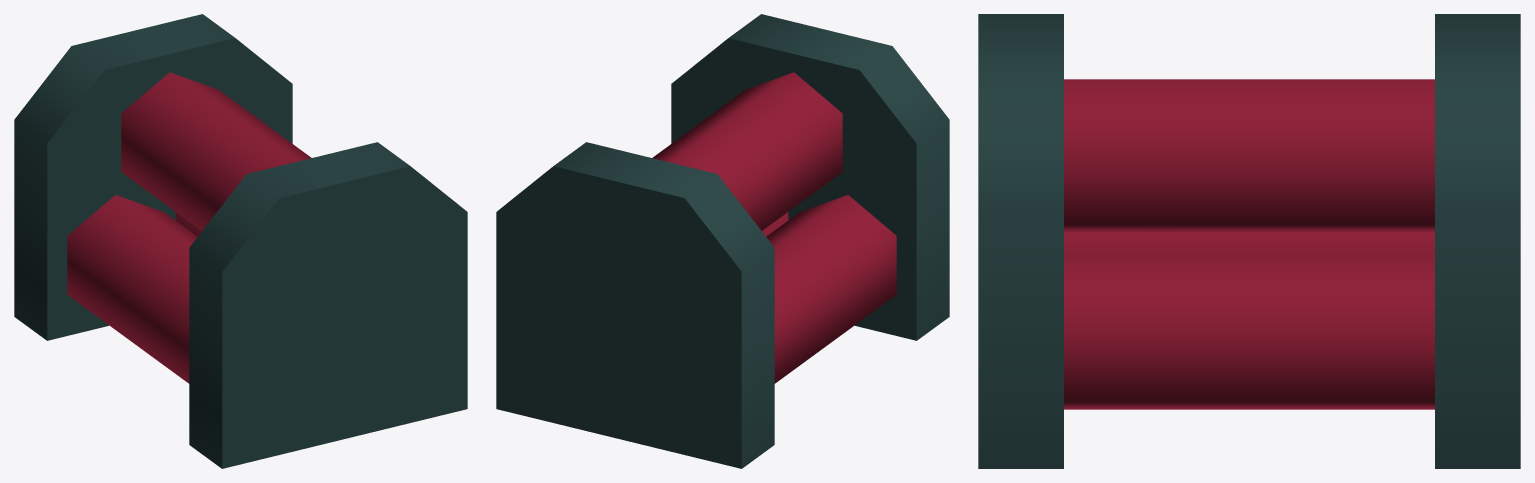
Rendered from Hydrogen.fbx.
3 views of the same model, side by side, from view 1: azimuth 30°, elevation 25°; view 2: azimuth 150°, elevation 25°; view 3: azimuth 270°, elevation 25° (orthographic). The views are drawn at different scales.
Visible parts, largest first — view 1: Hydrogen; view 2: Hydrogen; view 3: Hydrogen.
Part boxes in pixels (x1=…): Hydrogen: x1=14, y1=14, x2=467, y2=468; Hydrogen: x1=496, y1=14, x2=949, y2=468; Hydrogen: x1=978, y1=14, x2=1520, y2=468.
Size of the model in its own units: 48.18 by 48.18 by 70.66.
